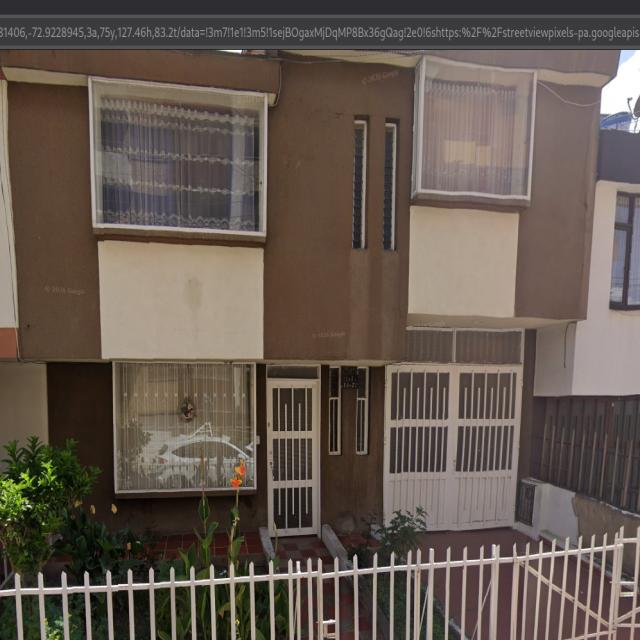Fachada: (0, 48, 625, 536), (521, 129, 639, 511)
